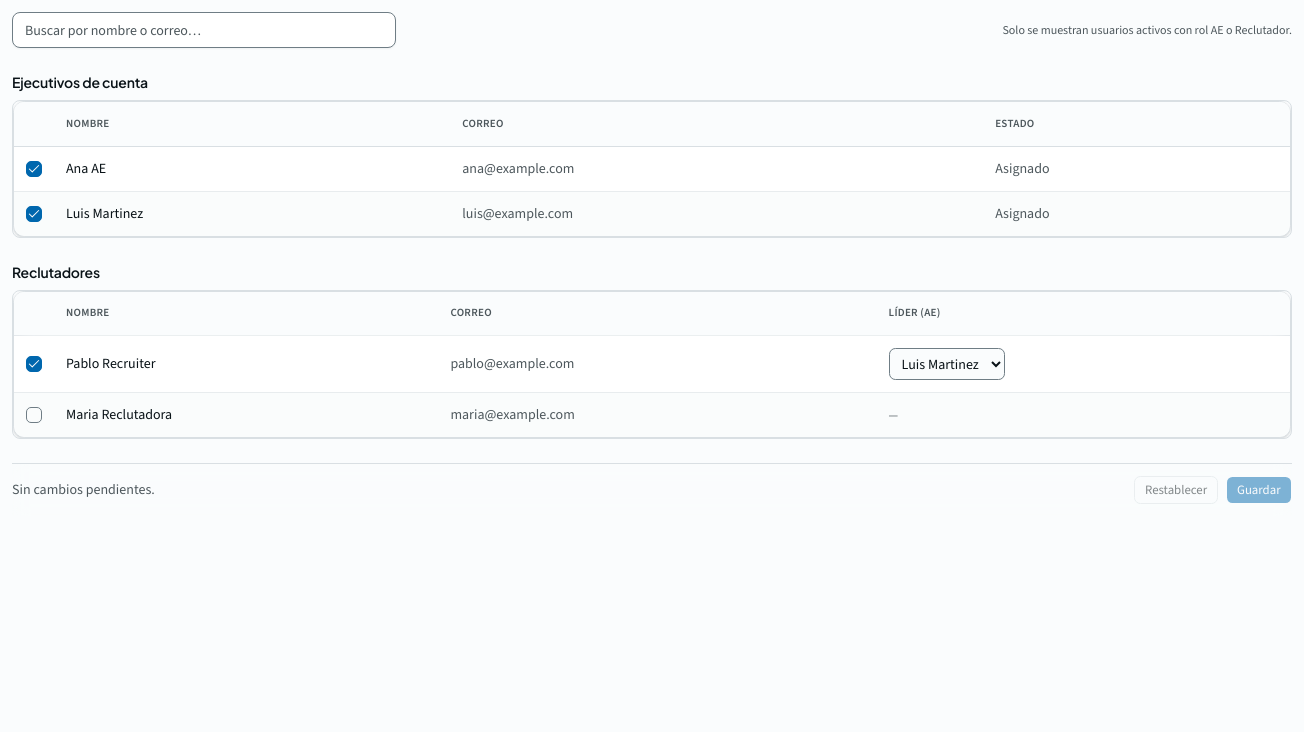
Test: AssignmentTable (US5 polimórfica) › Restablecer restaura checkboxes y líder al estado del servidor
Check: the row with test id "recruiter-row-rec-1" is shown, box [14,336,1290,392]
// Desmarcamos ae-2 (cambio local).
Click the checkbox named "Asignar a Luis Martinez".
click(34, 214)  # box [26,206,42,222]
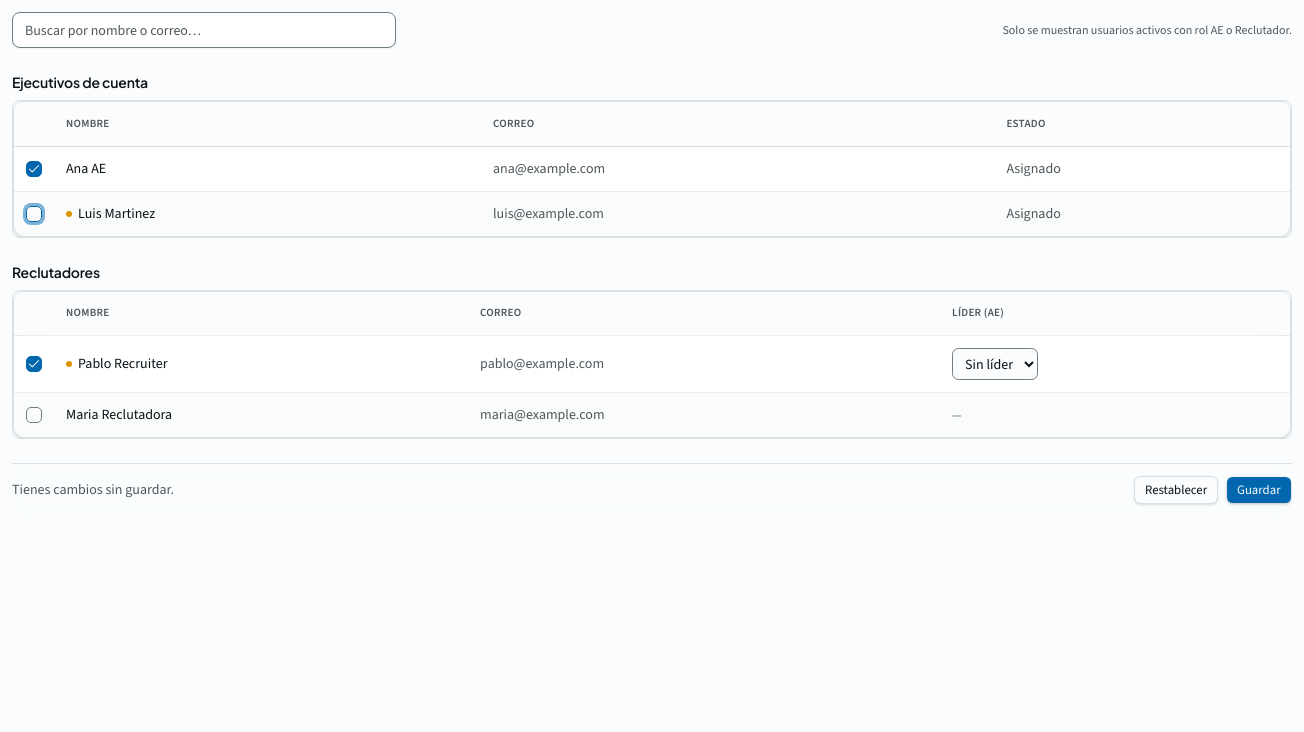
// Marcamos rec-2 (cambio local).
Click the checkbox named "Asignar a Maria Reclutadora".
click(34, 415)  # box [26,407,42,423]
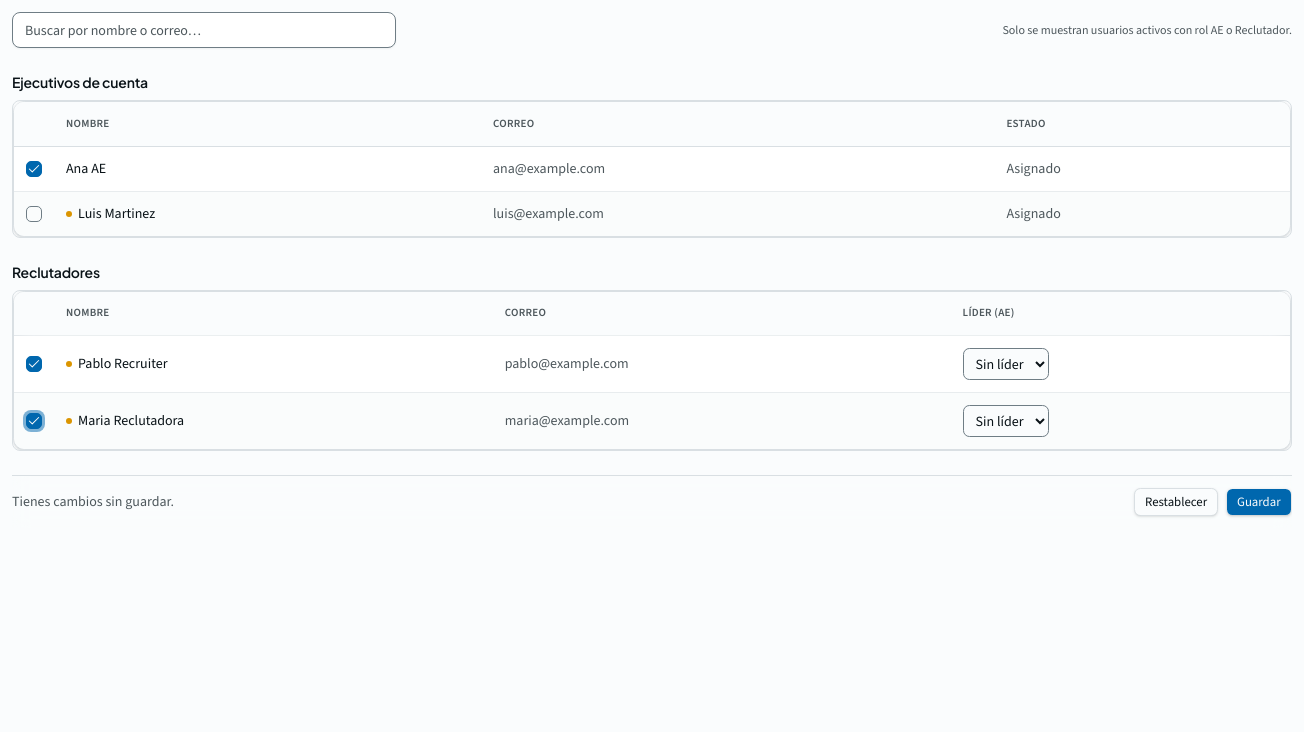
Check: the button "Guardar" is enabled, box [1226,488,1292,516]
Click the button "Restablecer".
click(1176, 502)  # box [1134,488,1218,516]
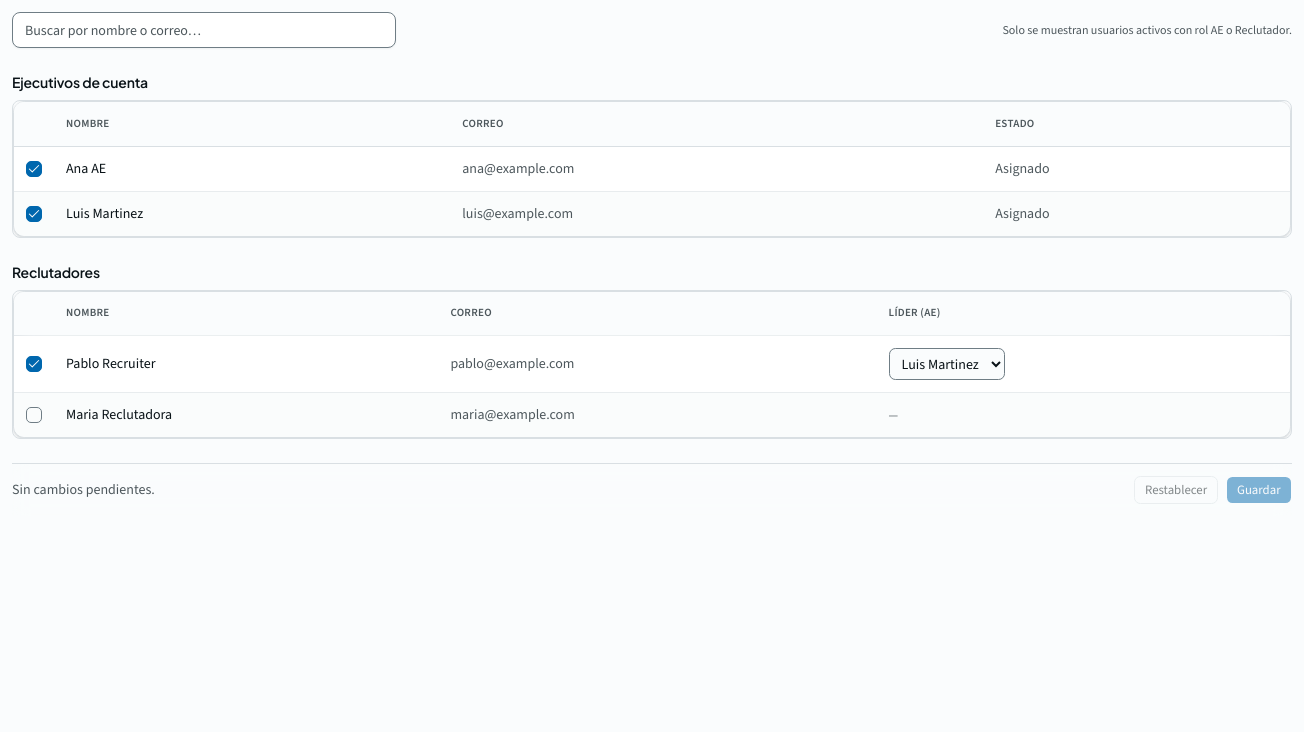
Check: the dropdown named "Líder (AE) de Pablo Recruiter" shows "Luis Martinez", box [889,348,1005,380]
Check: the button "Guardar" is disabled, box [1226,476,1292,504]
